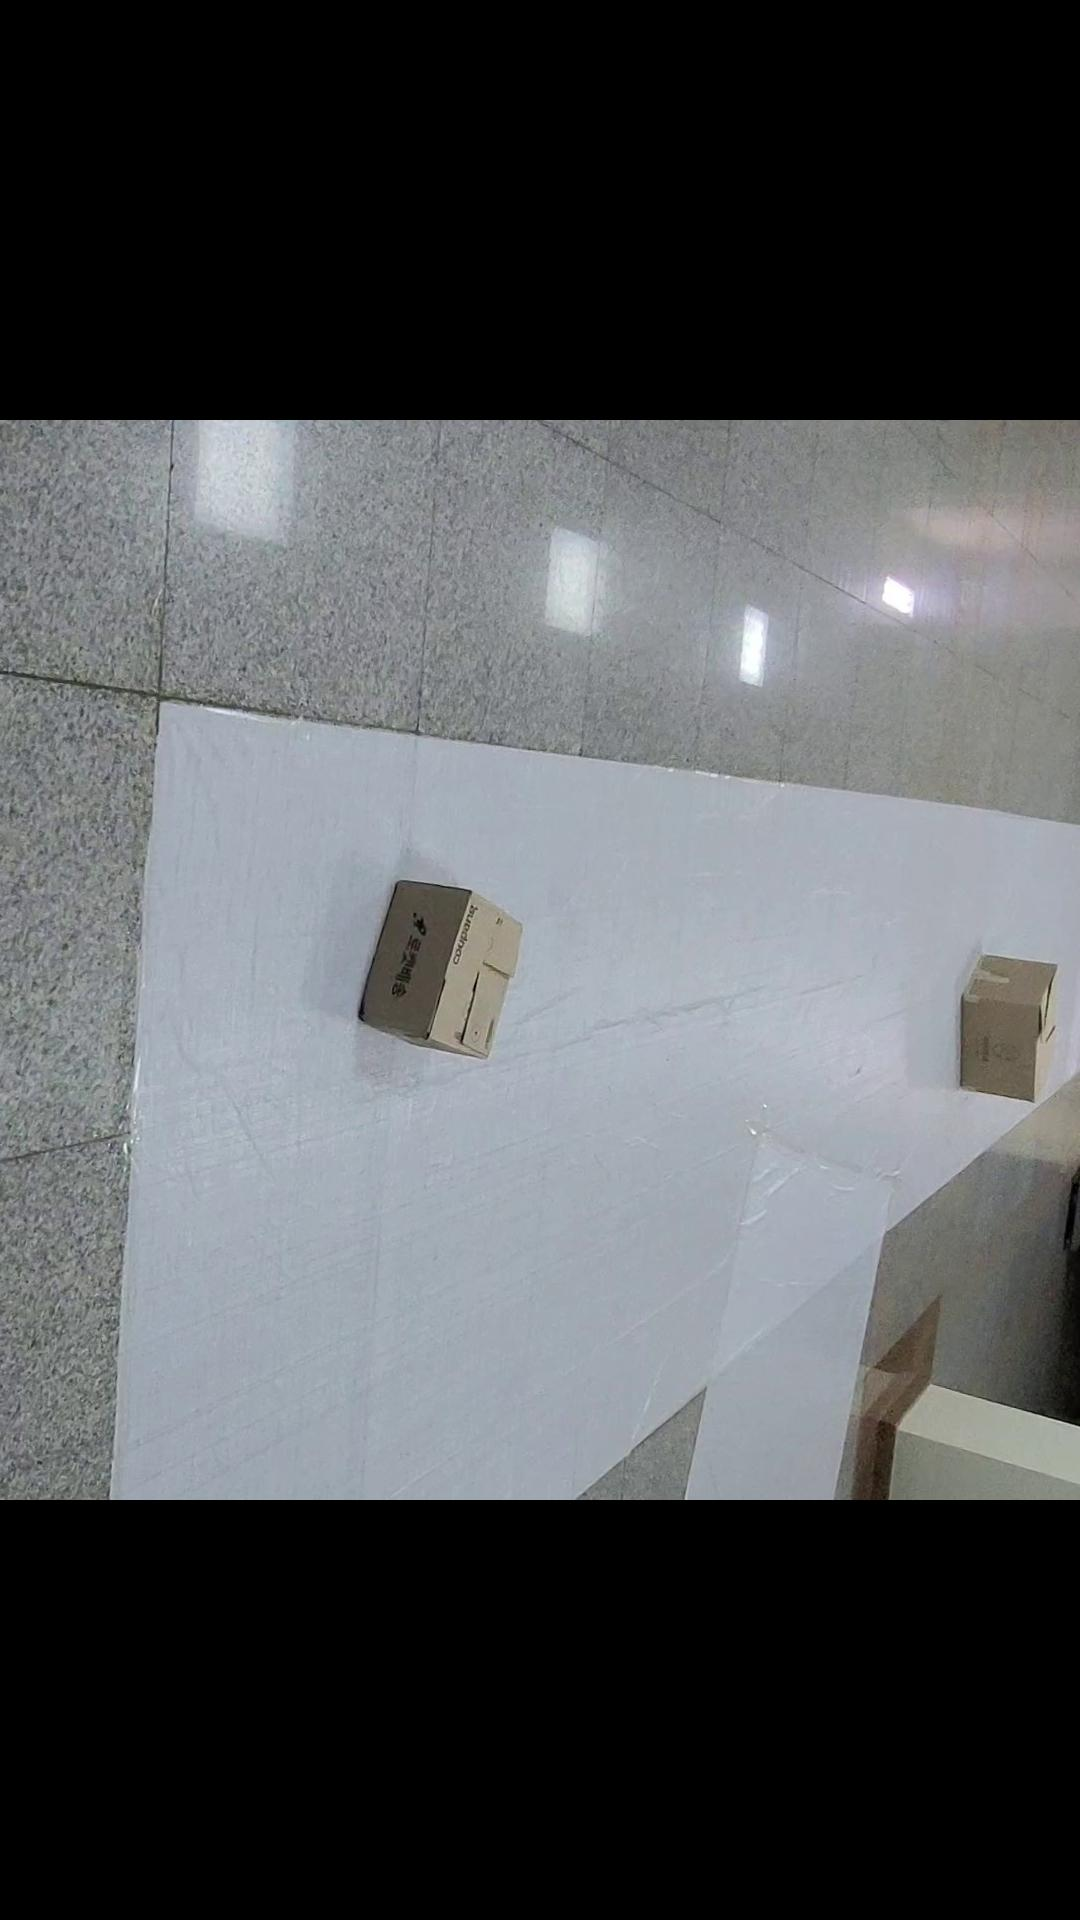Box: (334, 848, 535, 1083), (913, 938, 1080, 1149)
